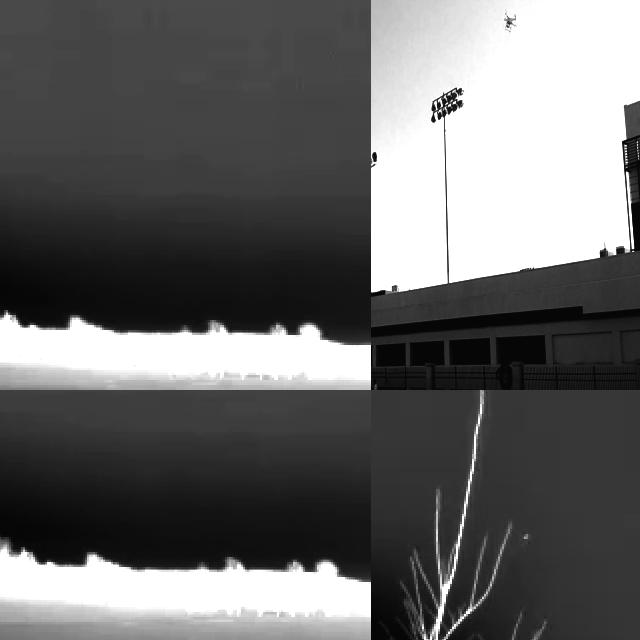0: (521, 528, 539, 550)
drone: (498, 9, 520, 35)
